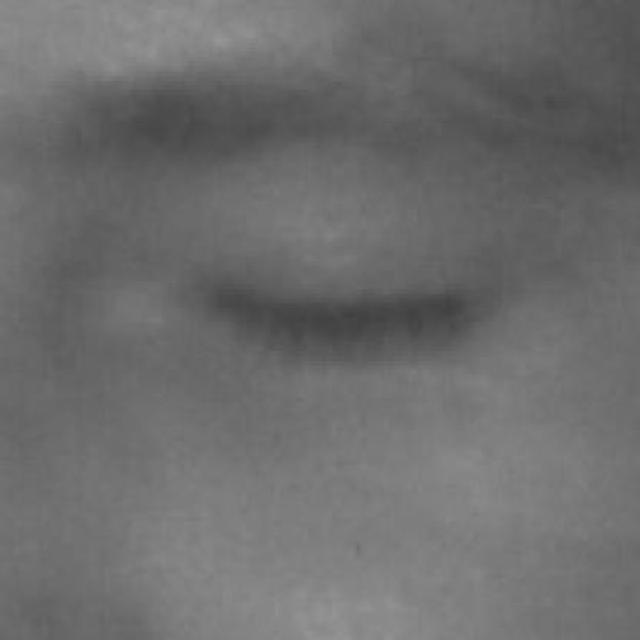drowsy: (212, 178, 488, 457)
